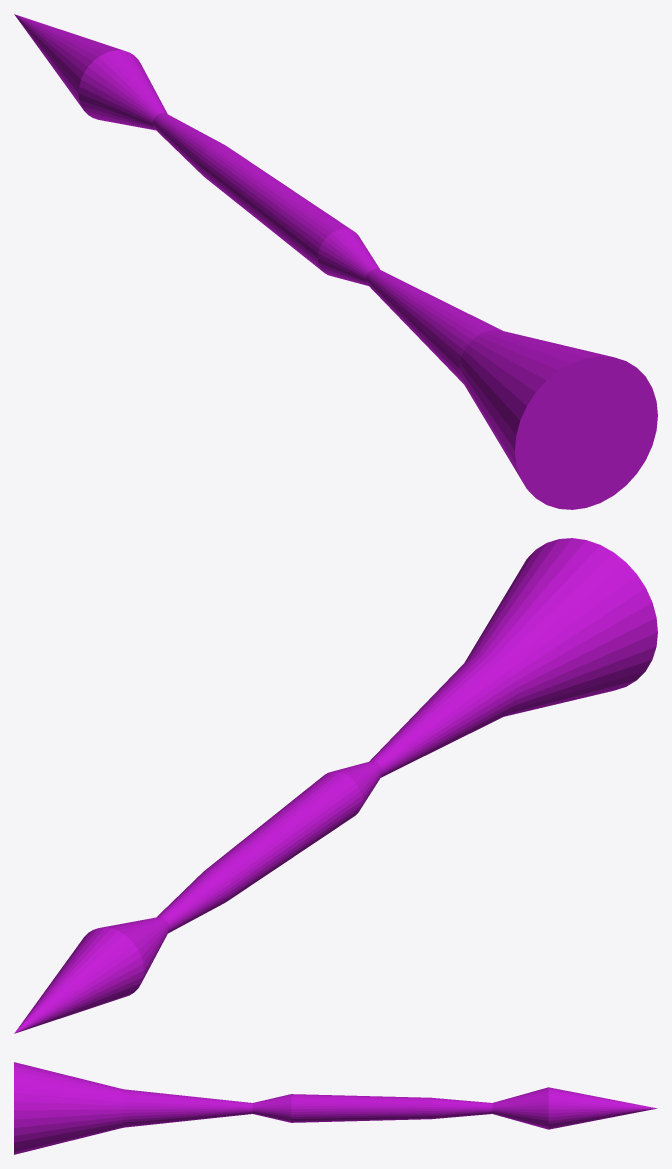
Rendered from dart.fbx.
3 renders of one model, top to bottom at view 1: azimuth 30°, elevation 25°; view 2: azimuth 150°, elevation 25°; view 3: azimuth 270°, elevation 25°, orthographic. The views are drawn at different scales.
Visible parts, largest first — view 1: Cone; view 2: Cone; view 3: Cone.
Part boxes in pixels (x1,y1,x2,y2): Cone: (14,14,657,509); Cone: (14,538,657,1033); Cone: (14,1062,657,1154).
Size of the model in its own units: 0.2206 by 0.2206 by 1.53.
